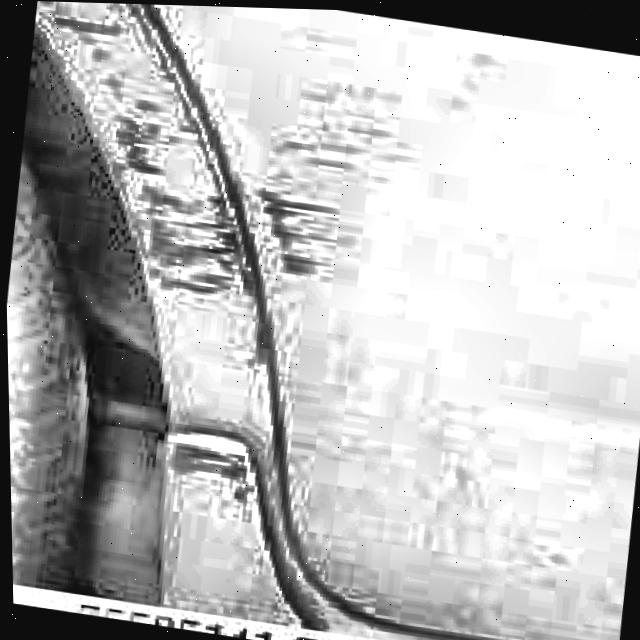door_scratch: (95, 105, 356, 337), (159, 431, 285, 513), (38, 1, 133, 57)
